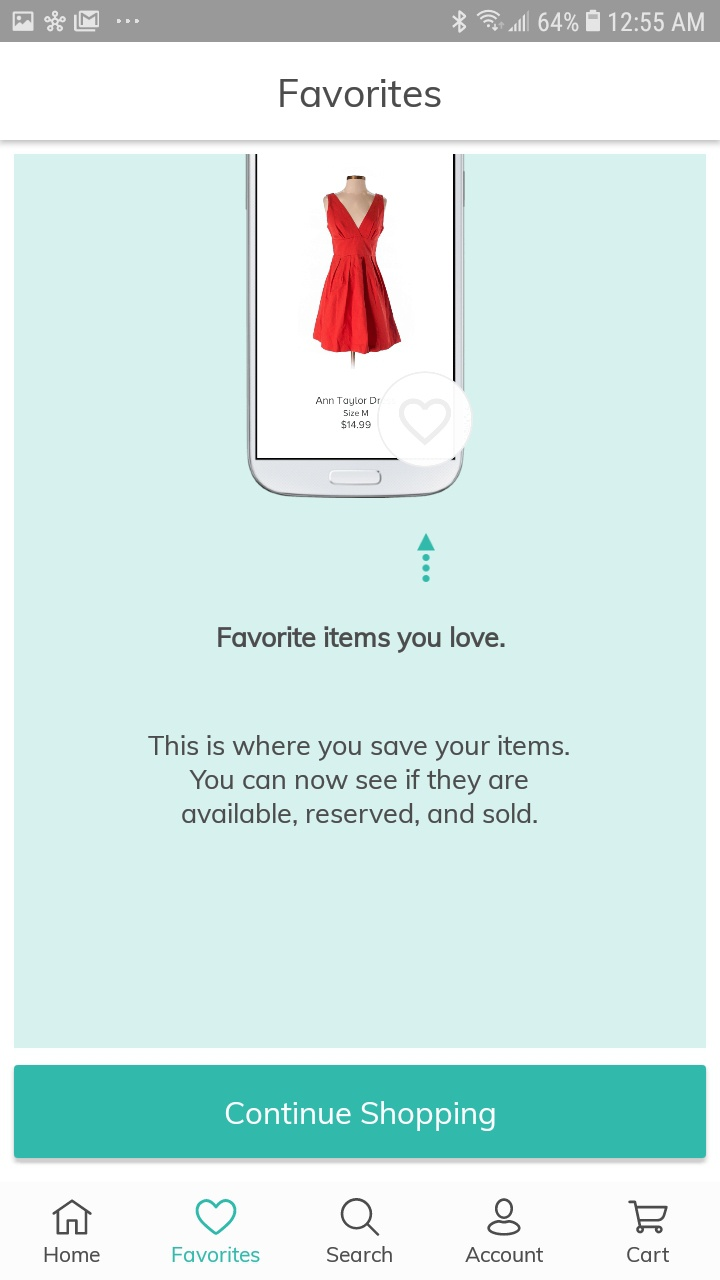Icon: (341, 1197, 380, 1237), (196, 1198, 238, 1235), (52, 1199, 93, 1235), (628, 1199, 669, 1234), (487, 1197, 521, 1236), (417, 533, 436, 583)
Image: (245, 155, 473, 499)
Text: (148, 734, 570, 827), (218, 626, 506, 654), (280, 79, 442, 109), (173, 1246, 261, 1263), (465, 1246, 544, 1263), (327, 1245, 393, 1263), (45, 1246, 101, 1263), (626, 1246, 670, 1263)
TextButton: (15, 1065, 706, 1158)
UpperTaskBar: (1, 1, 720, 43)
